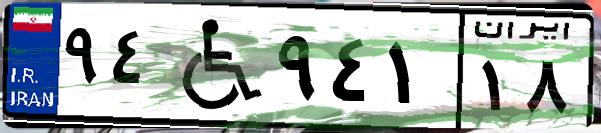1: (385, 28, 445, 110), (475, 38, 525, 113)
4: (330, 28, 385, 110), (110, 28, 158, 98)
8: (525, 38, 570, 115)
9: (270, 28, 330, 110), (57, 26, 110, 100)
ژ (معلولین و جانبازان): (158, 12, 270, 120)
